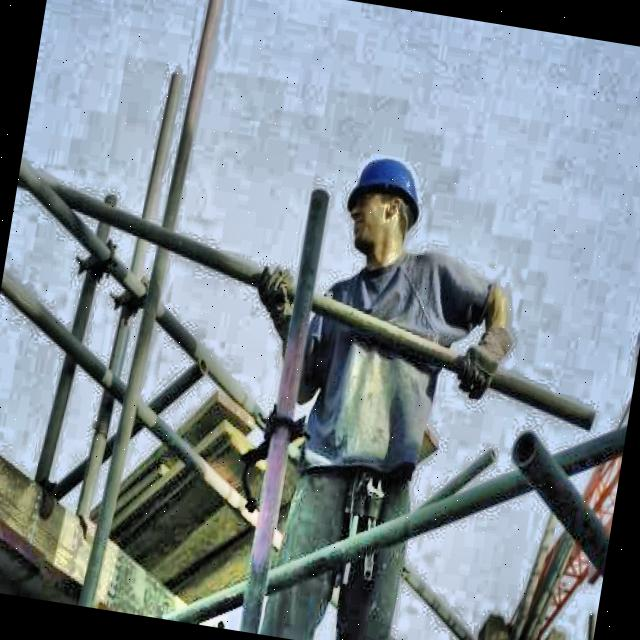helmet: (327, 132, 433, 273)
